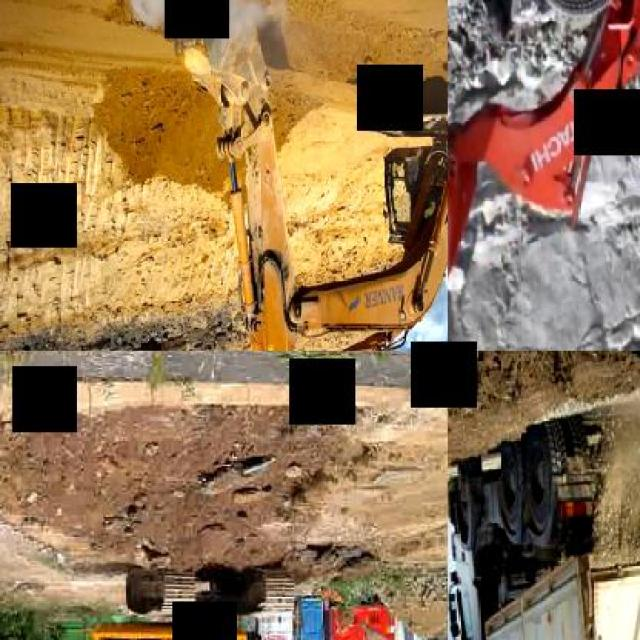buldozerpayloadergrader: (448, 0, 638, 349)
dump_truck: (448, 416, 638, 638)
excavator: (172, 0, 446, 349), (90, 560, 408, 638)
